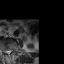CCS_normal: (8, 48, 9, 58)
LFS_normal: (11, 47, 13, 53)
LLS_normal: (9, 48, 11, 54)
RFS_stenosis: (4, 48, 6, 54)
RLS_normal: (6, 48, 8, 55)
